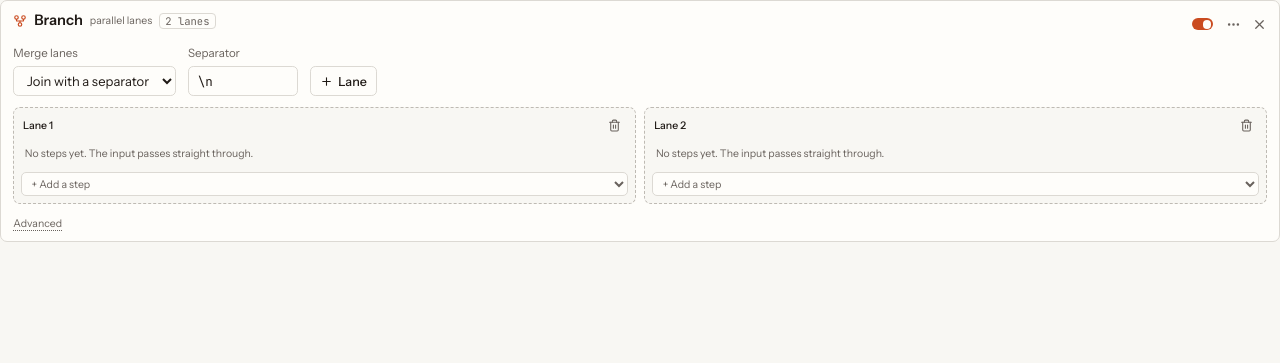
Test: <BranchCard /> › edits the branch's run condition and error policy, and shows chips for them
This screenshot has width=1280, height=363.
Click the button "Advanced": (38, 224) [13,215,62,232]
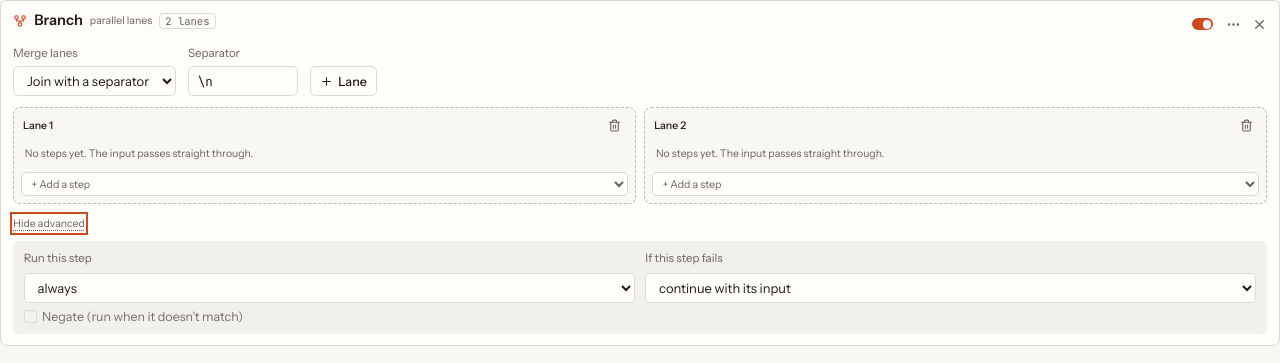
Select "when the input isn’t empty" in the dropdown named "run condition": (329, 288) [24,272,635,302]
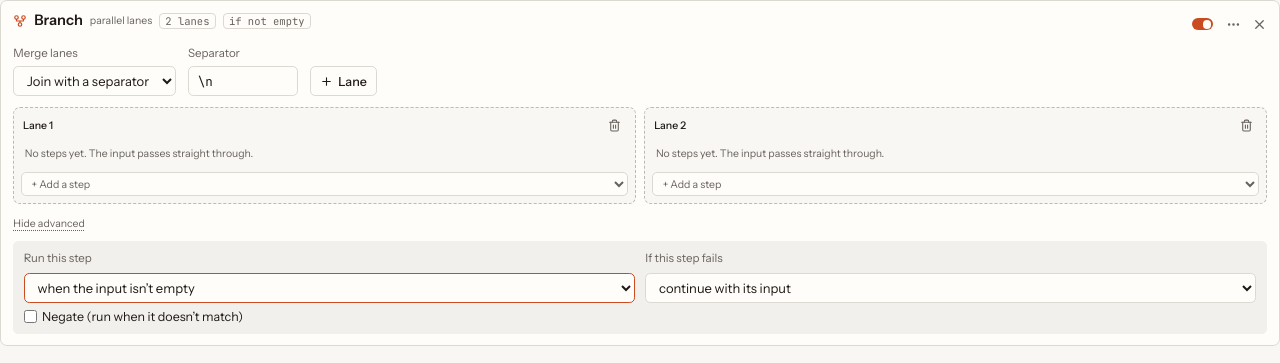
Select "stop the pipeline" in the dropdown named "on error": (951, 288) [645,272,1256,302]
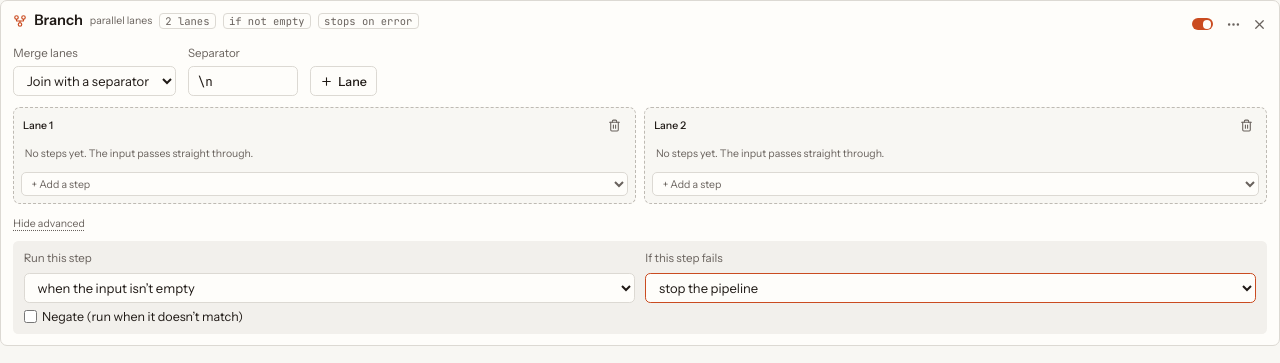
Expected: the text "if not empty" is shown, [223,13,311,29]
Expected: the text "stops on error" is shown, [318,13,418,29]
